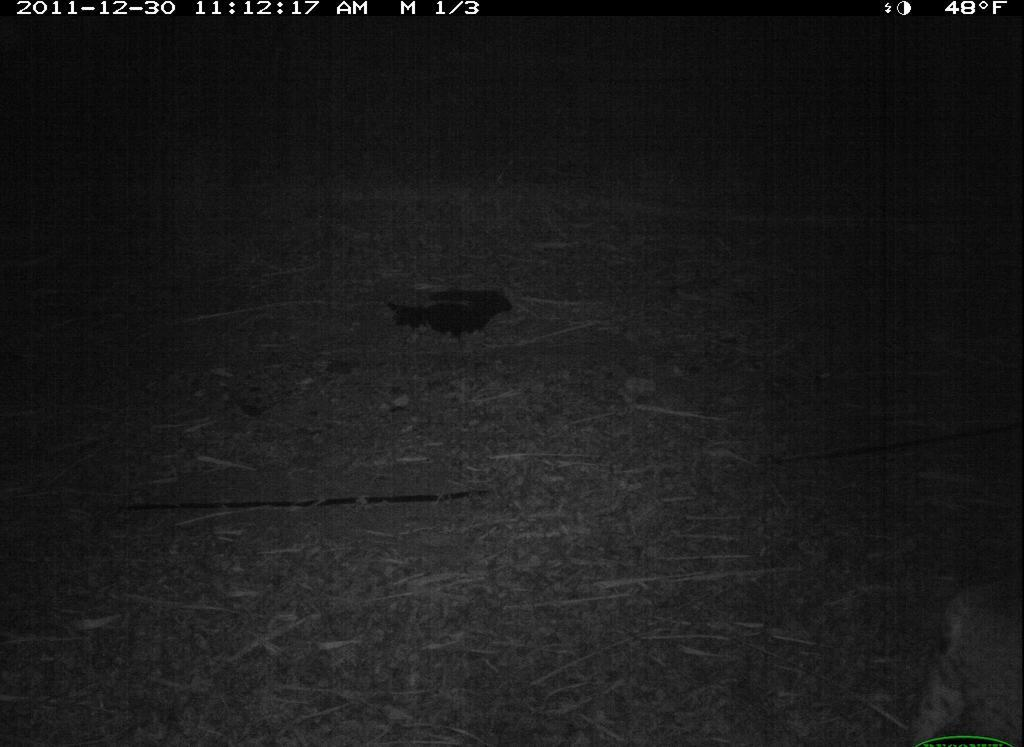bobcat: (898, 556, 1023, 747)
